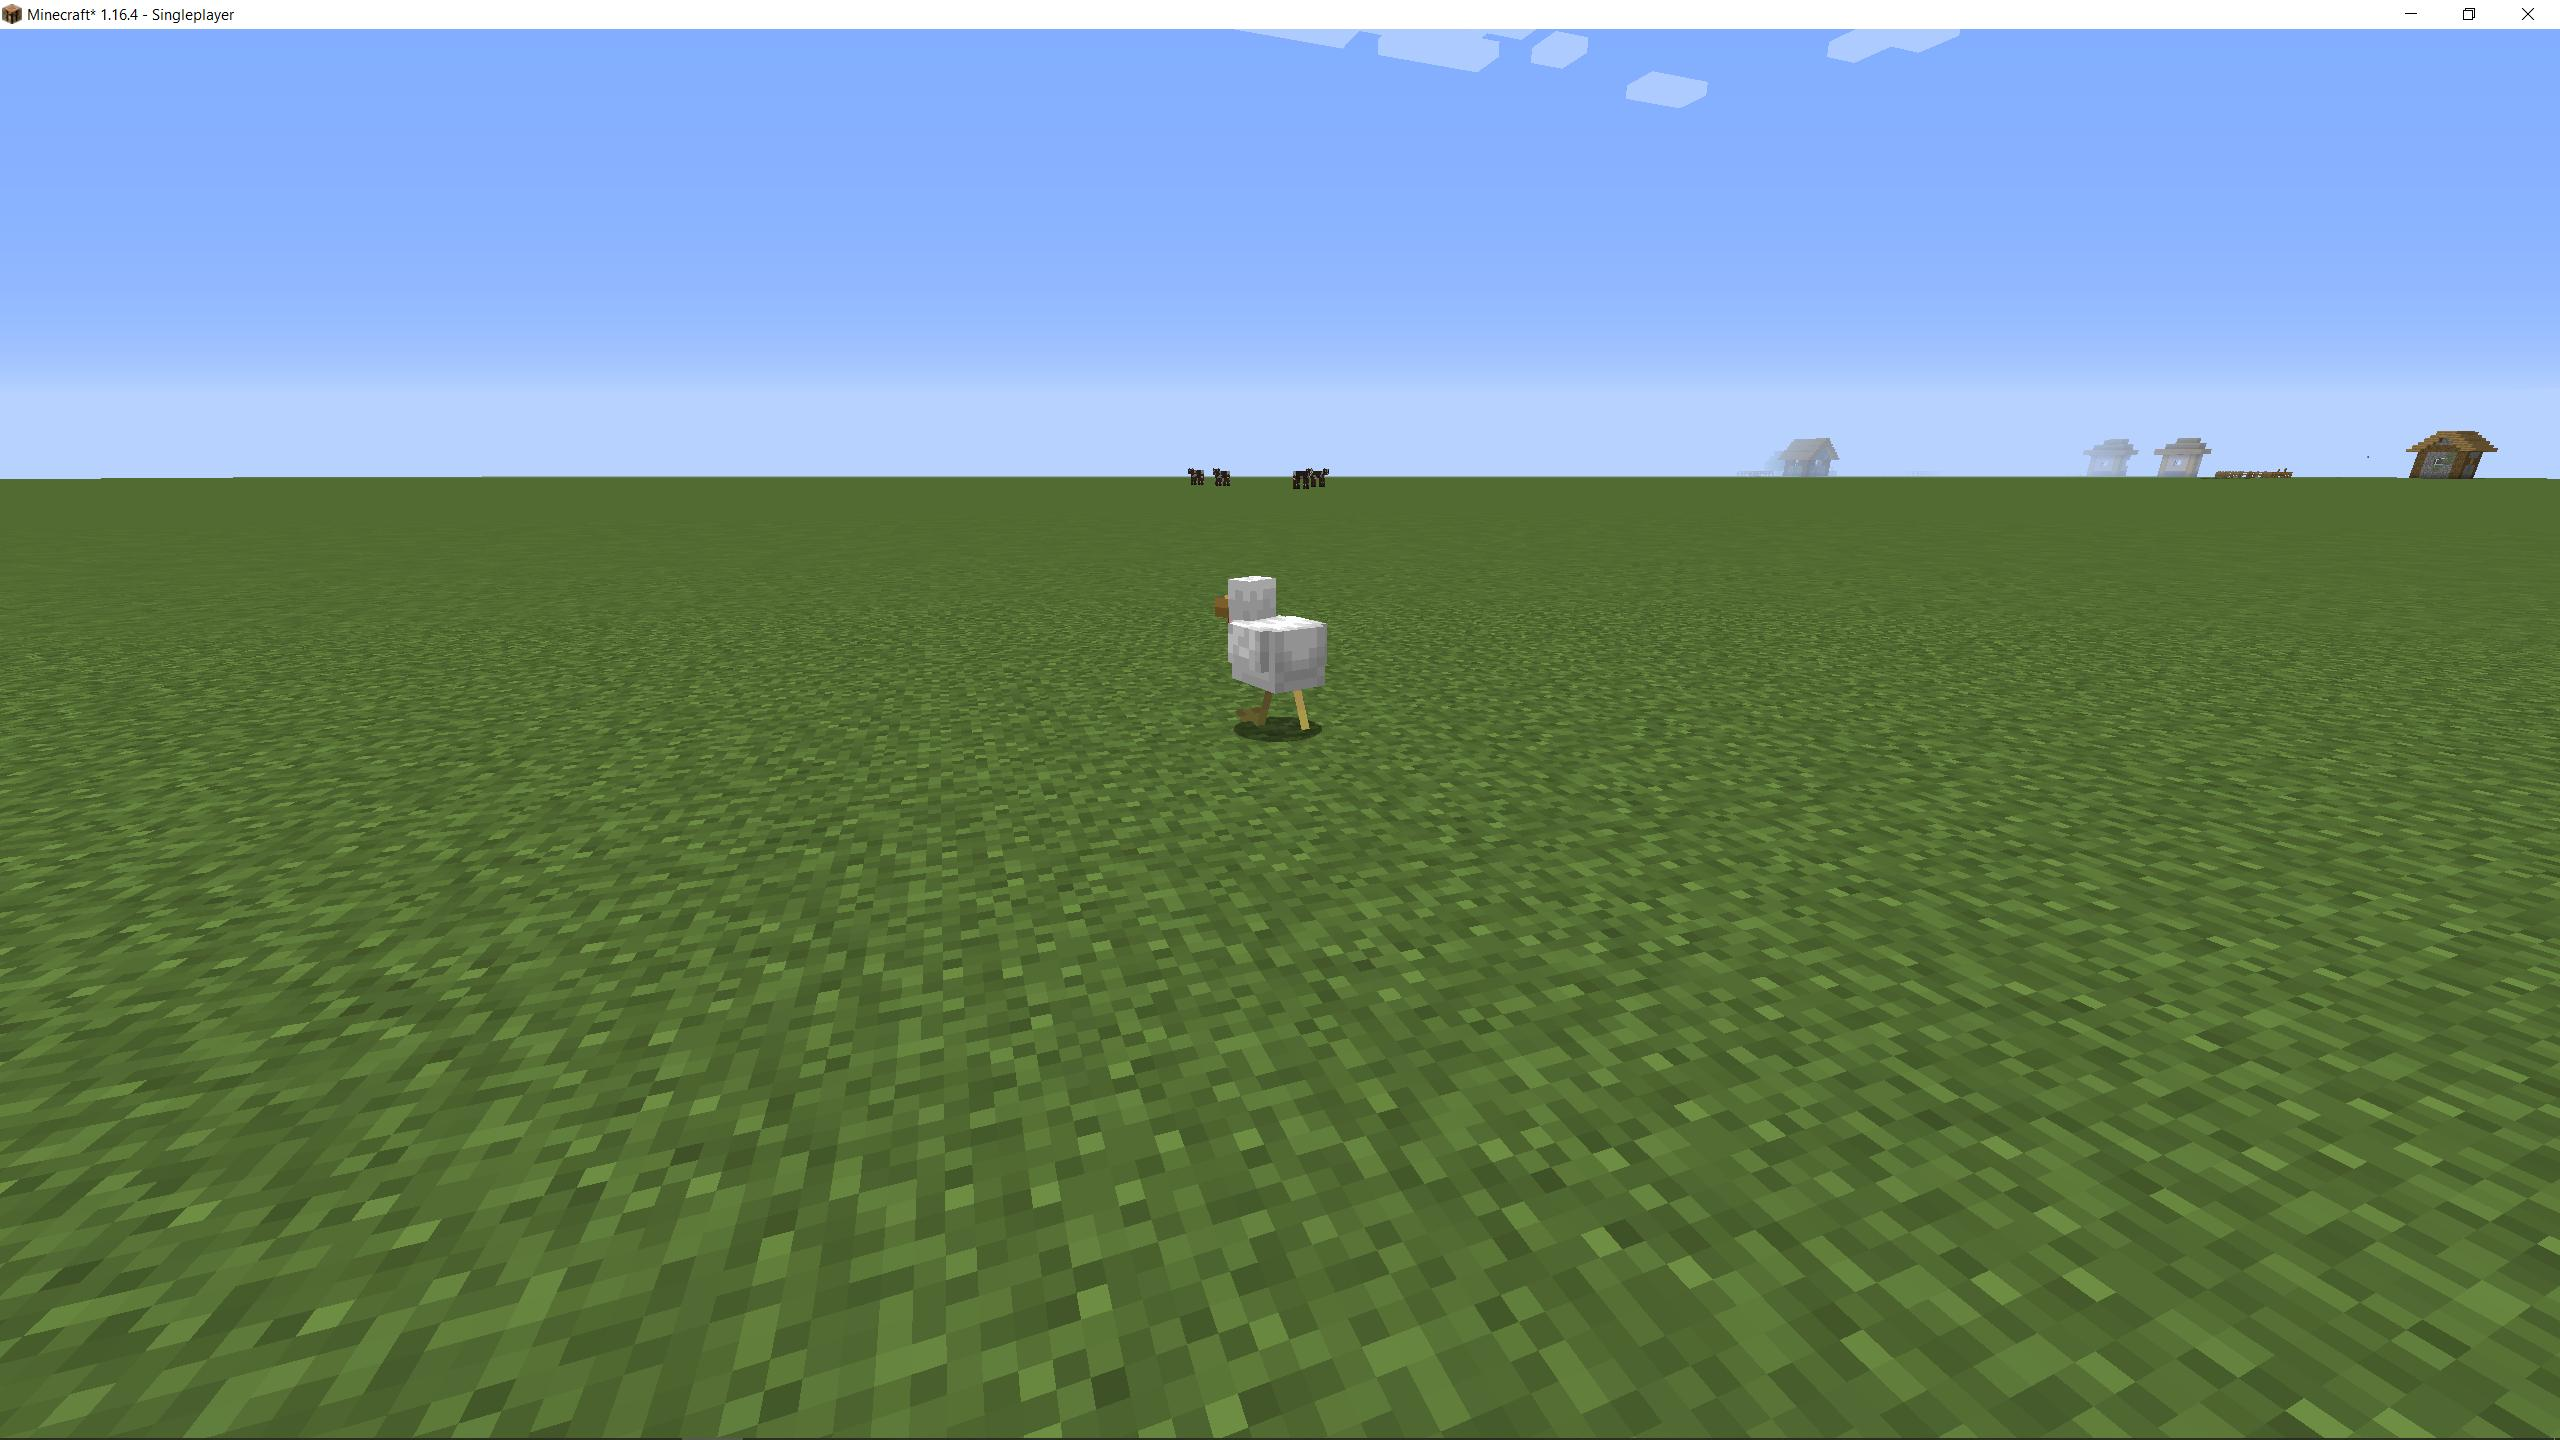chicken: (1206, 573, 1333, 738)
